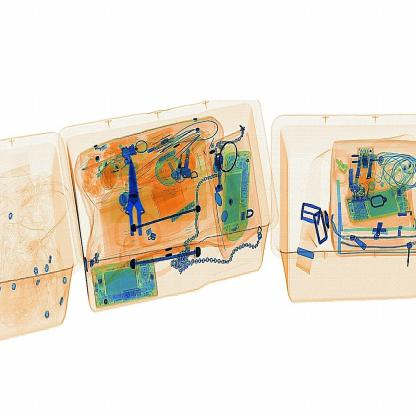gun: (107, 141, 166, 250)
